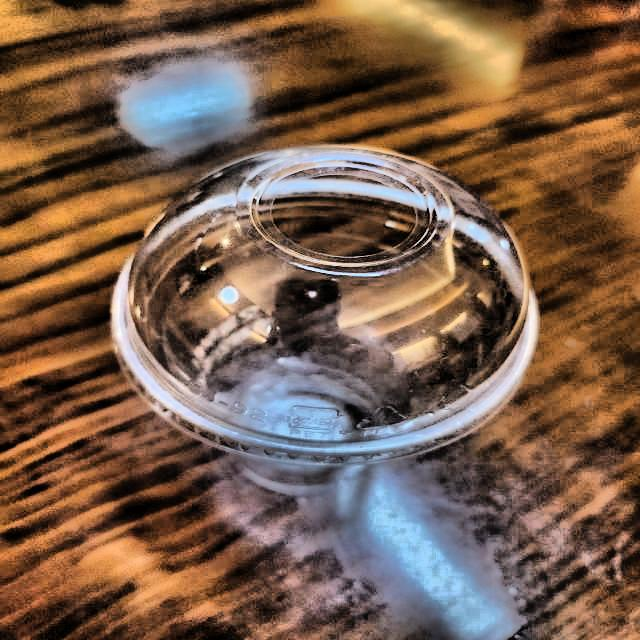plastic cup: (93, 132, 560, 524)
